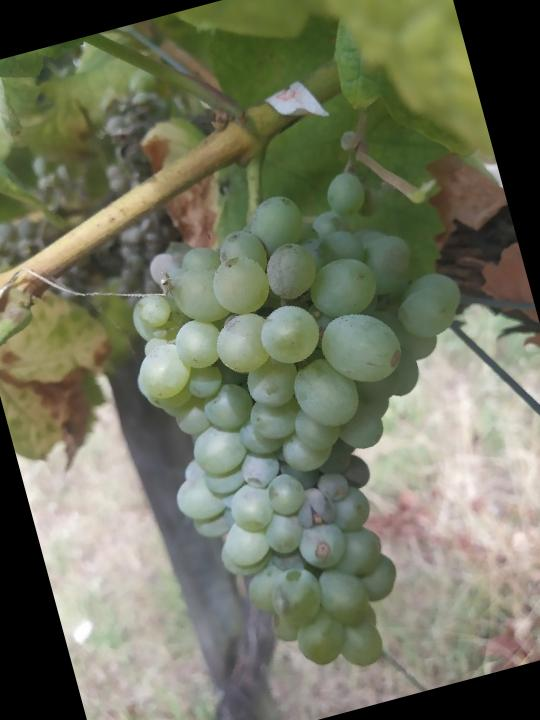grape: (95, 148, 540, 711)
